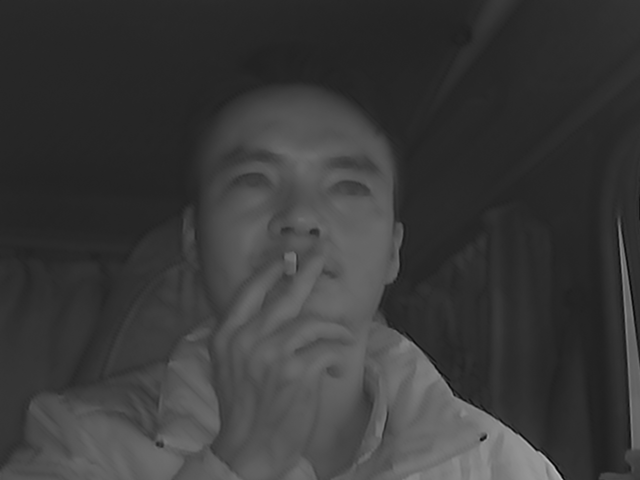hand: (223, 250, 352, 393)
